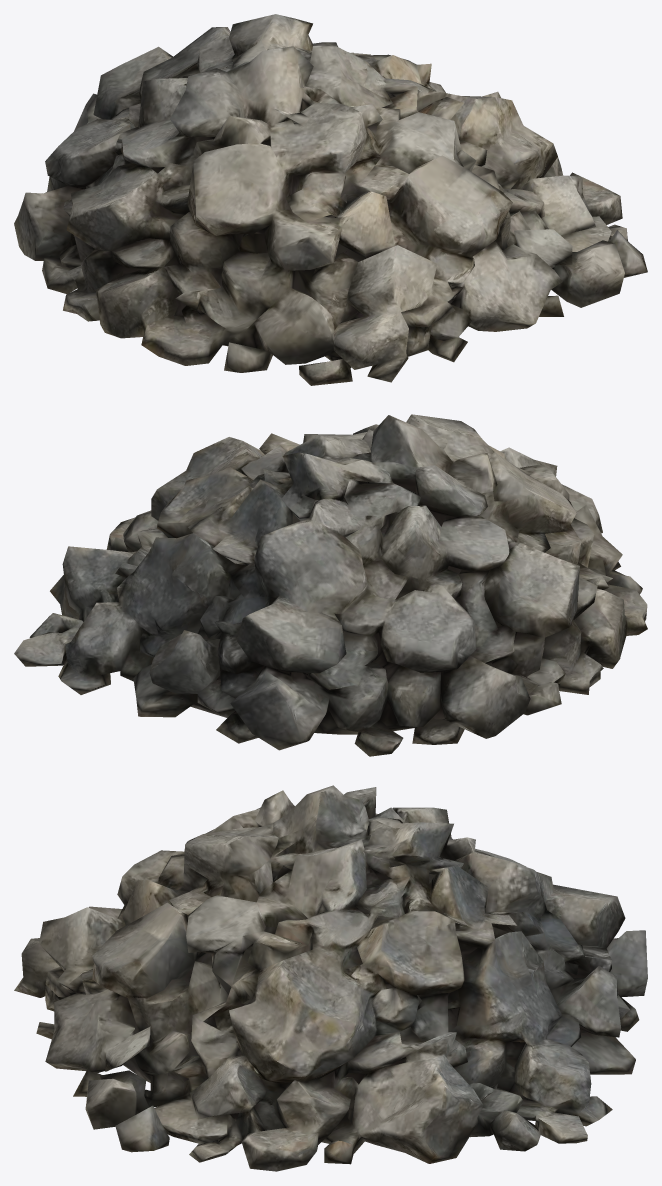
The model's file is qr_ridge1.glb.
The picture shows the model from 3 angles, top to bottom: view 1: azimuth 30°, elevation 25°; view 2: azimuth 150°, elevation 25°; view 3: azimuth 270°, elevation 25°; orthographic projection. The views are drawn at different scales.
Parts seen in each view (by area): view 1: tripo_node_2f63ec11-e51d-44fa-bea4-5048d84d9048; view 2: tripo_node_2f63ec11-e51d-44fa-bea4-5048d84d9048; view 3: tripo_node_2f63ec11-e51d-44fa-bea4-5048d84d9048.
Part boxes in pixels (<box>): tripo_node_2f63ec11-e51d-44fa-bea4-5048d84d9048: <box>14,14,647,385</box>; tripo_node_2f63ec11-e51d-44fa-bea4-5048d84d9048: <box>14,414,647,756</box>; tripo_node_2f63ec11-e51d-44fa-bea4-5048d84d9048: <box>14,785,647,1171</box>.
Size of the model in its own units: 0.9693 by 0.401 by 1.
Materials: 1 (1 with a texture image).
